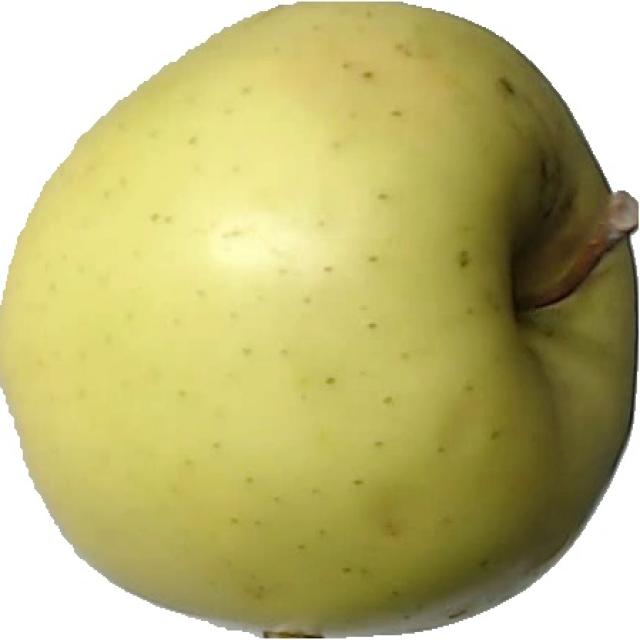Golden Elma: (8, 7, 640, 621)
